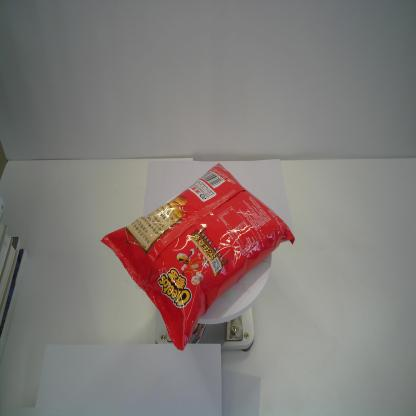Puffed Food: (98, 161, 296, 353)
